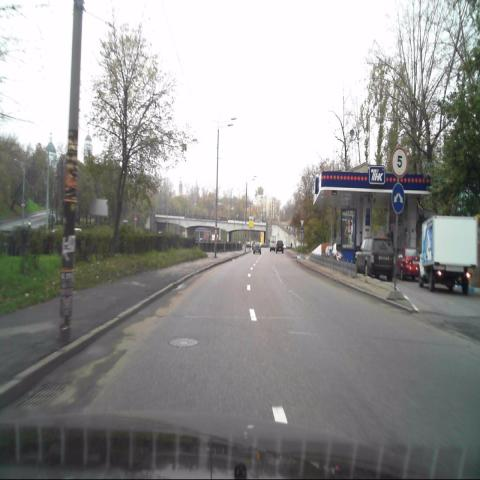3_24: (391, 147, 408, 178)
4_2_3: (390, 181, 406, 214)
